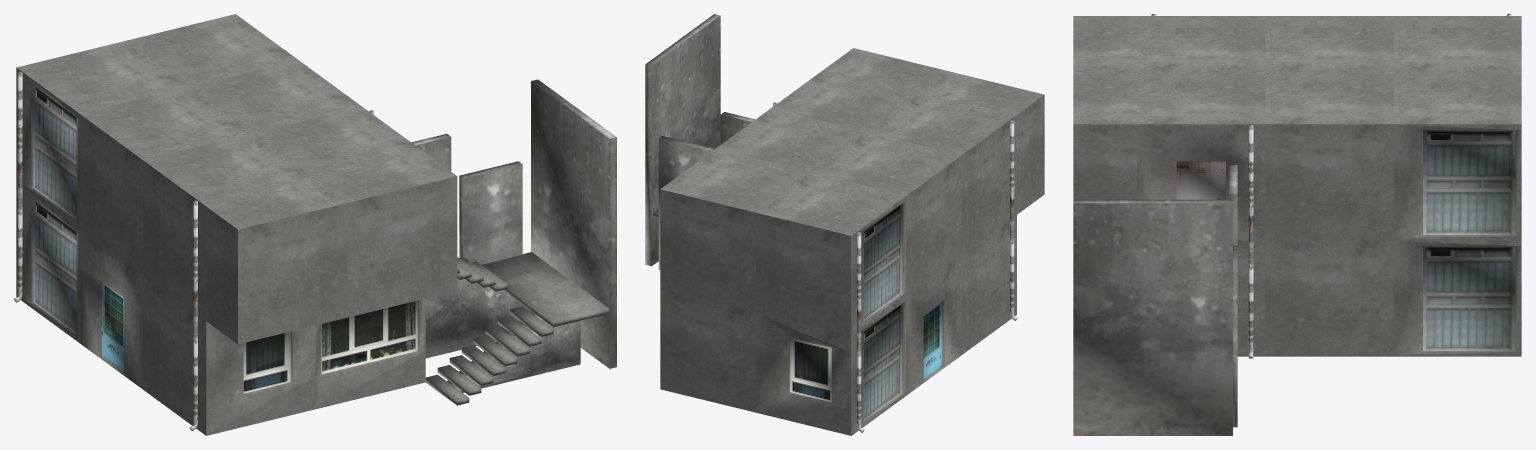
The model's file is building_1.fbx.
3 views of the same model, side by side, from view 1: azimuth 30°, elevation 25°; view 2: azimuth 150°, elevation 25°; view 3: azimuth 270°, elevation 25° (orthographic). The views are drawn at different scales.
Parts seen in each view (by area): view 1: buildOneWindow.004; view 2: buildOneWindow.004; view 3: buildOneWindow.004.
Part boxes in pixels (<box>): buildOneWindow.004: <box>14,14,616,435</box>; buildOneWindow.004: <box>645,14,1044,435</box>; buildOneWindow.004: <box>1073,14,1521,435</box>.
Size of the model in its own units: 1165 by 664 by 1155.
